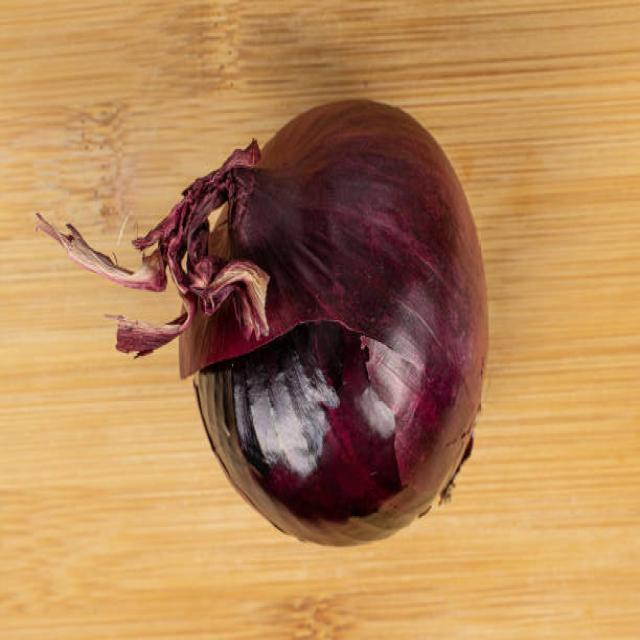onion: (142, 73, 496, 553)
